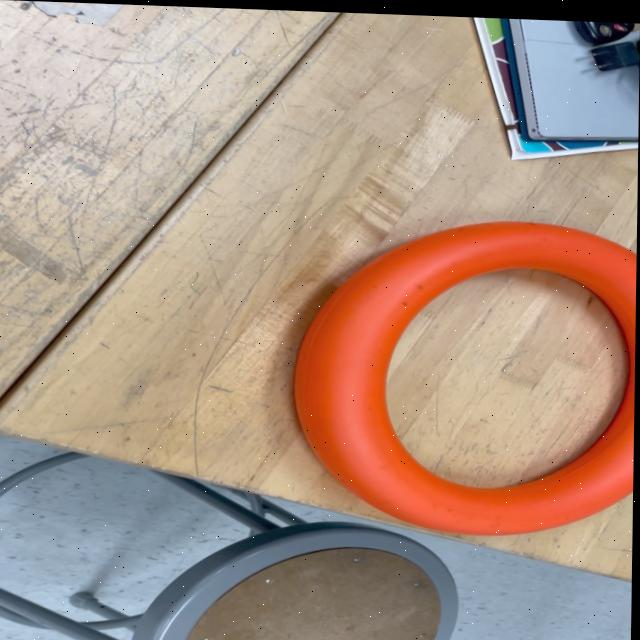note: (290, 210, 637, 537)
